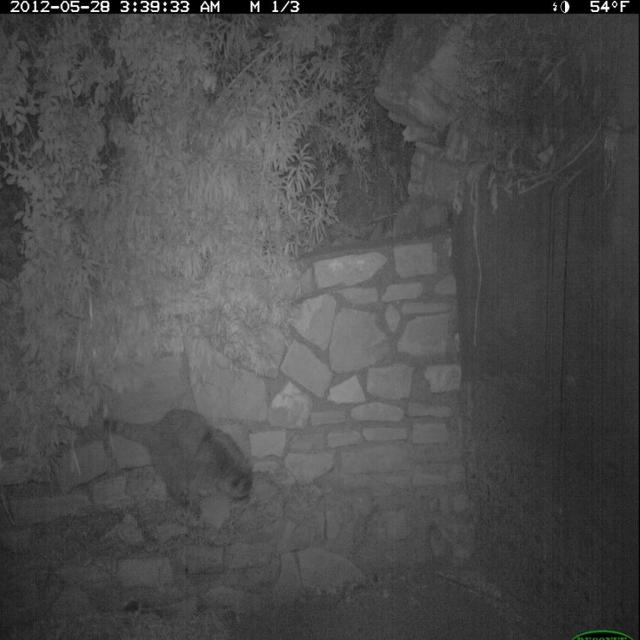raccoon: (107, 399, 263, 517)
